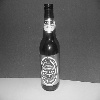beer: (39, 1, 63, 92)
